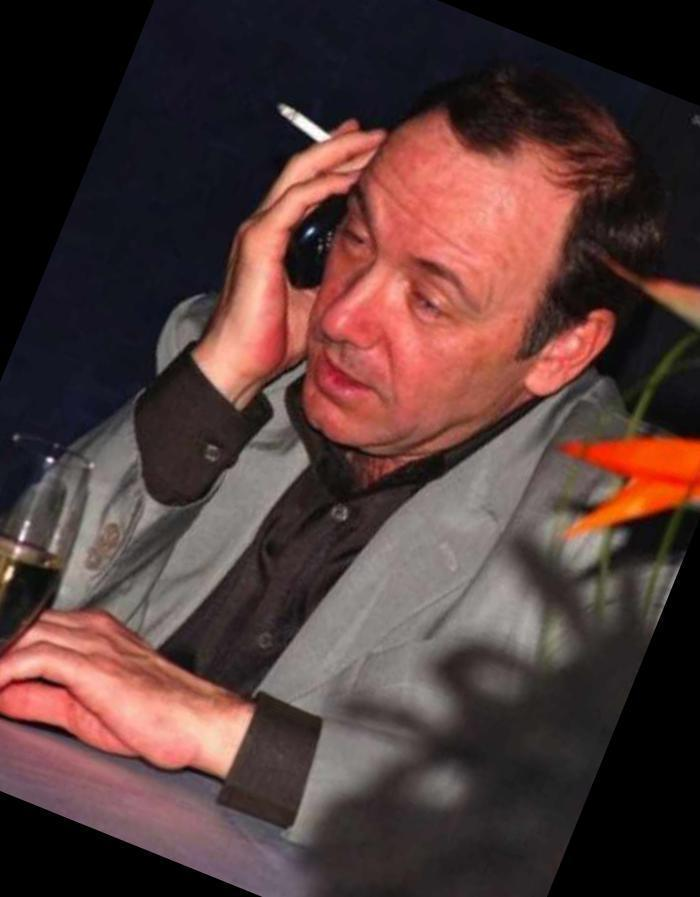Drunk: (321, 138, 527, 430)
